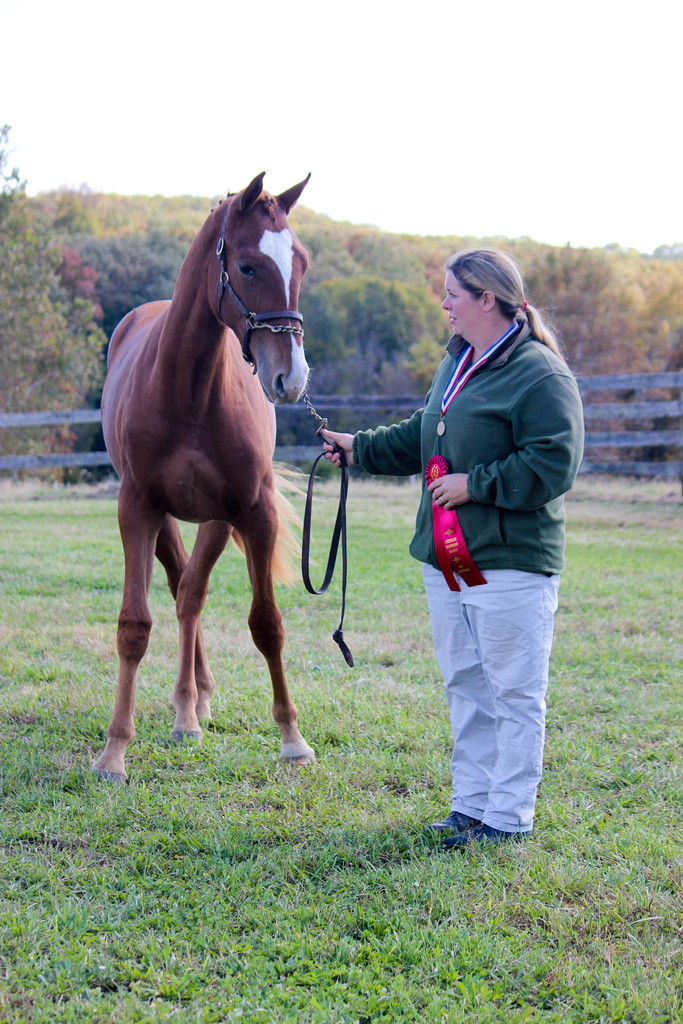horse: (97, 172, 315, 784)
